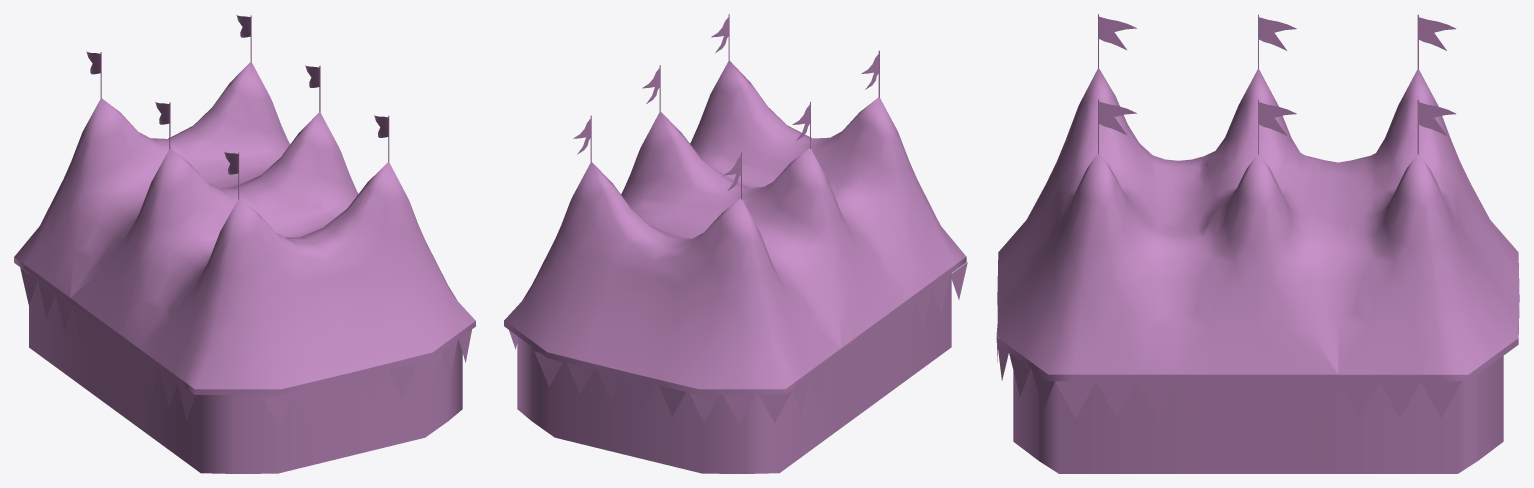
File: BigTent.fbx
The picture shows the model from 3 angles, left to right: view 1: azimuth 30°, elevation 25°; view 2: azimuth 150°, elevation 25°; view 3: azimuth 270°, elevation 25°; orthographic projection. The views are drawn at different scales.
Parts seen in each view (by area): view 1: BigTent; view 2: BigTent; view 3: BigTent.
Part boxes in pixels (x1,y1,x2,y2): BigTent: (14, 14, 475, 473); BigTent: (504, 14, 967, 473); BigTent: (996, 14, 1519, 473).
Bounding box in the file's own units: 1934 × 1937 × 2681.
